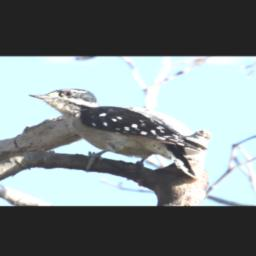Woodpecker: (25, 87, 210, 179)
